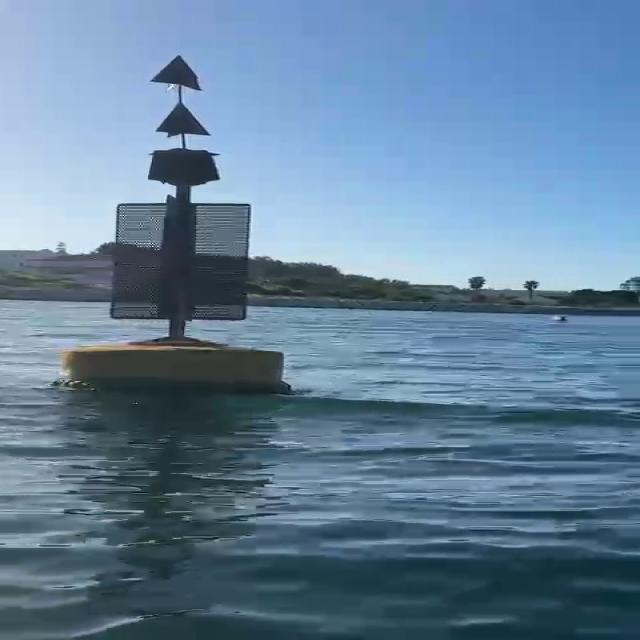marque: (61, 44, 288, 400)
